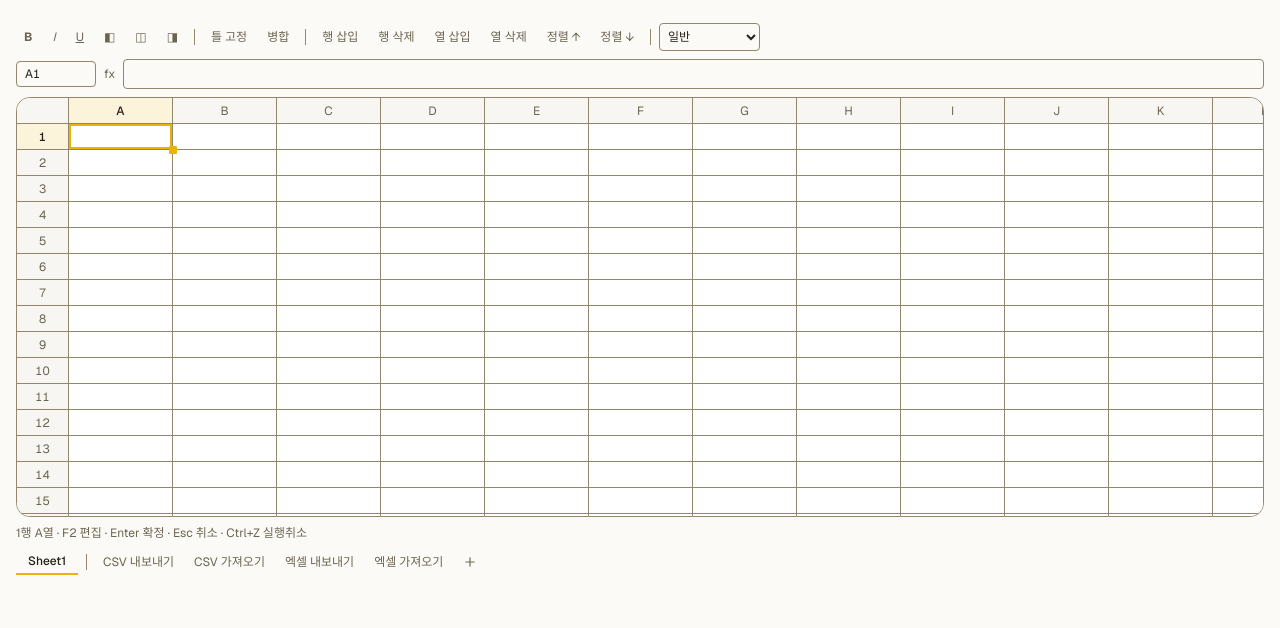
it: SheetPanel 저장 › 메타 저장이 실패하면 알린다
This screenshot has width=1280, height=628.
Step 1. Click the button named "굵게" → (28, 37), box [16,25,40,49]
Wait 1000 ms
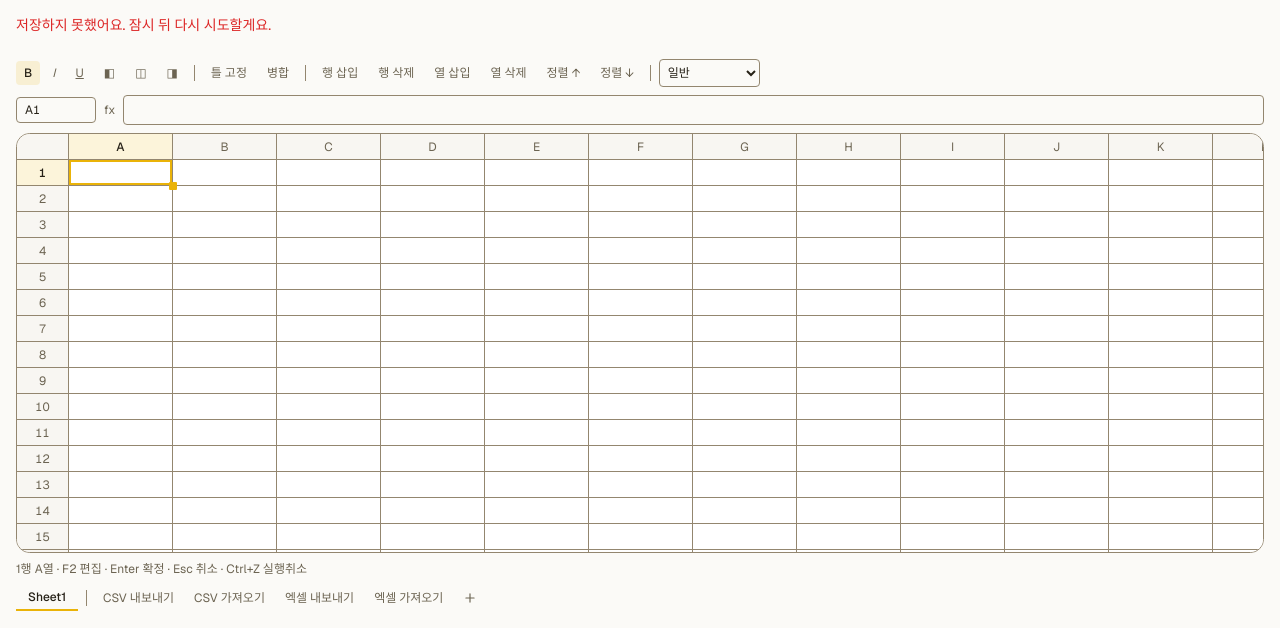
Check: the message shows "저장", box [16,16,271,34]
